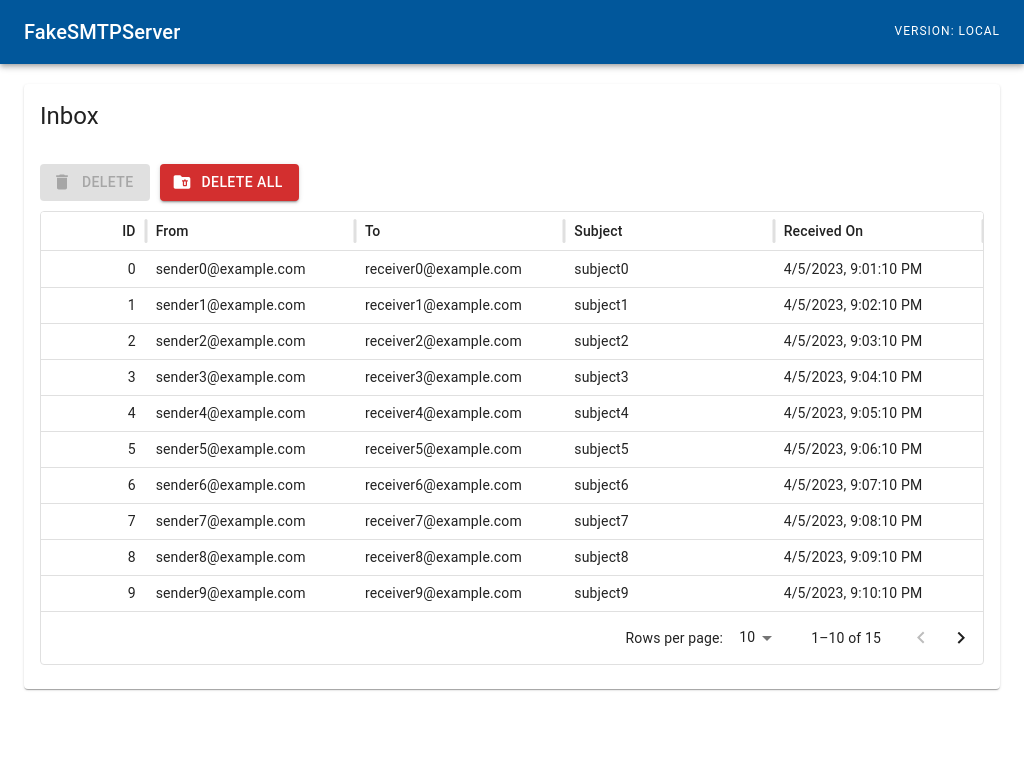
Test: EmailListPage › should render email details on selection
This screenshot has width=1024, height=768.
Click the cell titled "1".
click(93, 304)  # box [41, 286, 146, 322]
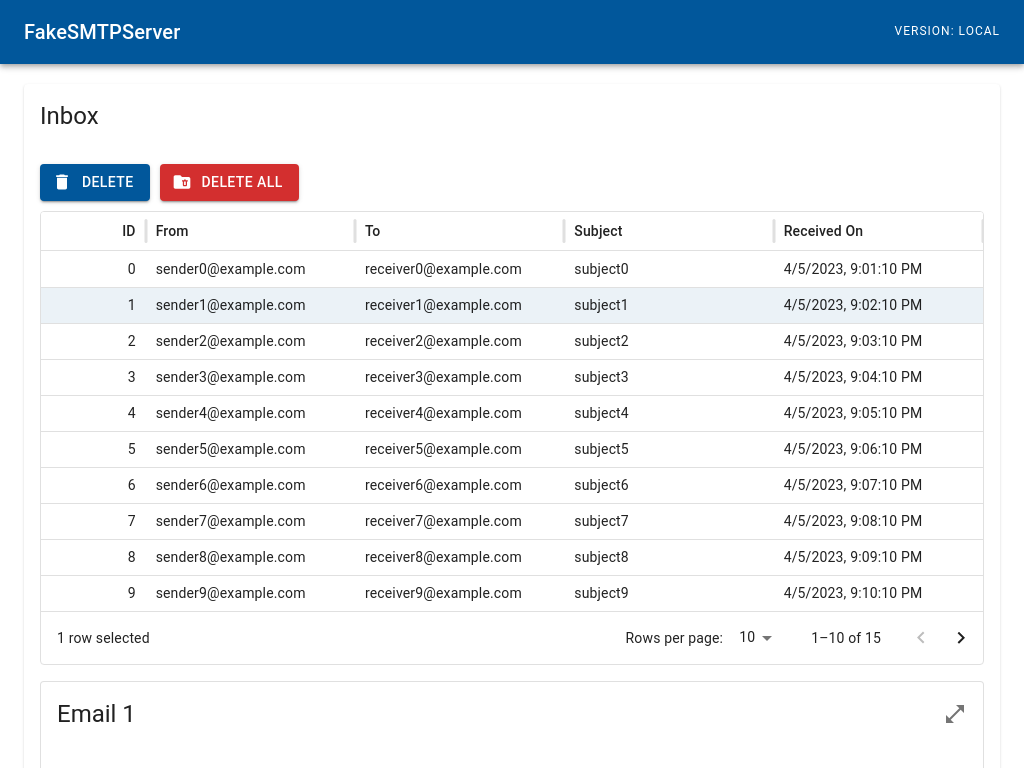
Now the text "Email 1" is shown, box [57, 700, 136, 728]
